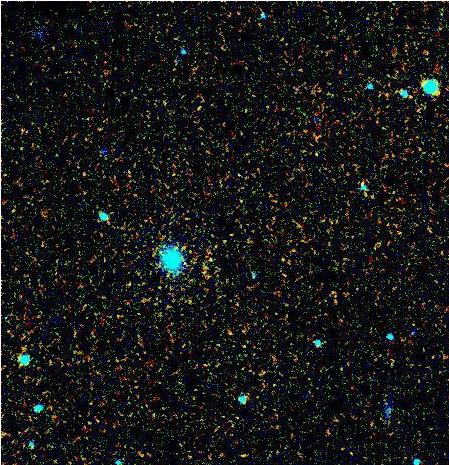star: (196, 244, 226, 274)
